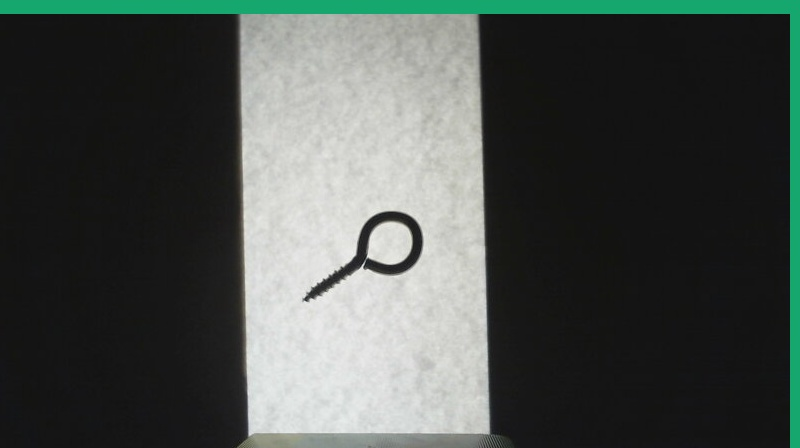O001: (298, 206, 427, 304)
